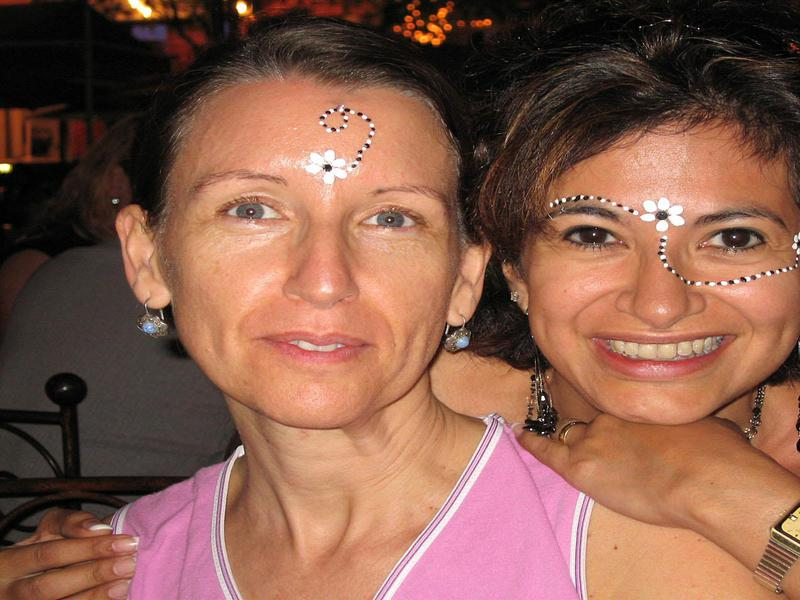person: (4, 12, 654, 600), (478, 21, 799, 600)
